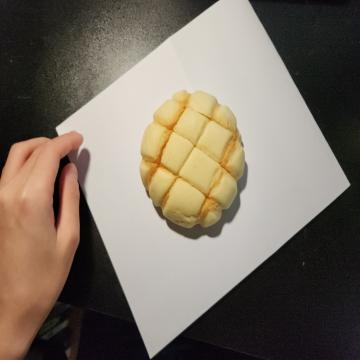melon_bread: (139, 89, 245, 232)
